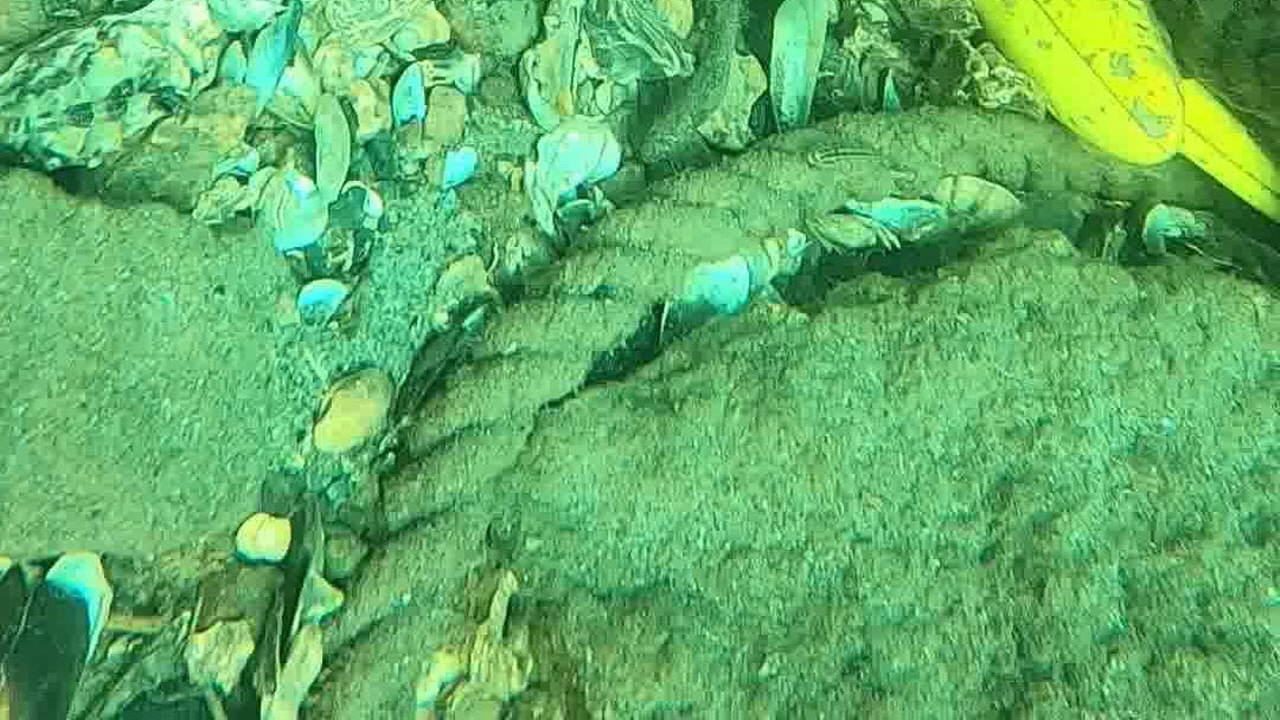rope: (299, 105, 1212, 720)
